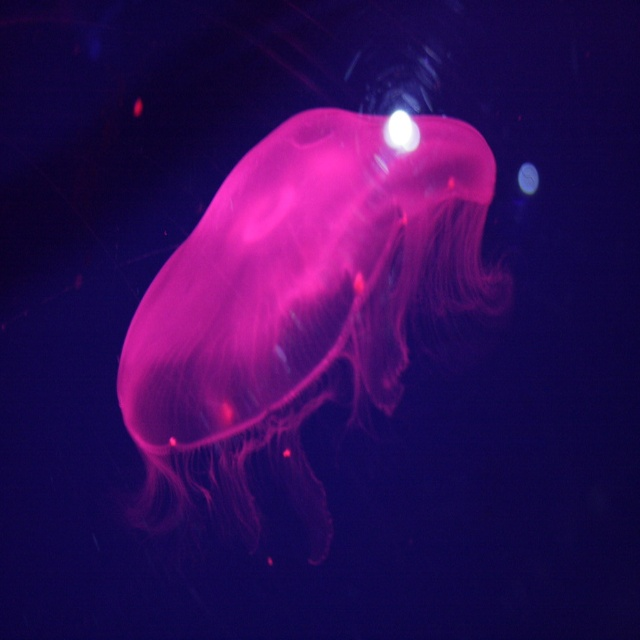Jellyfish: (115, 99, 514, 570)
